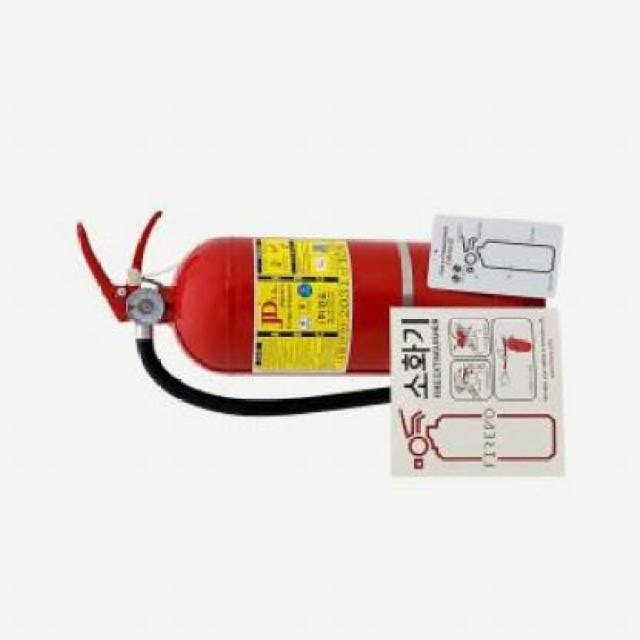fire extinguisher: (77, 209, 546, 417)
